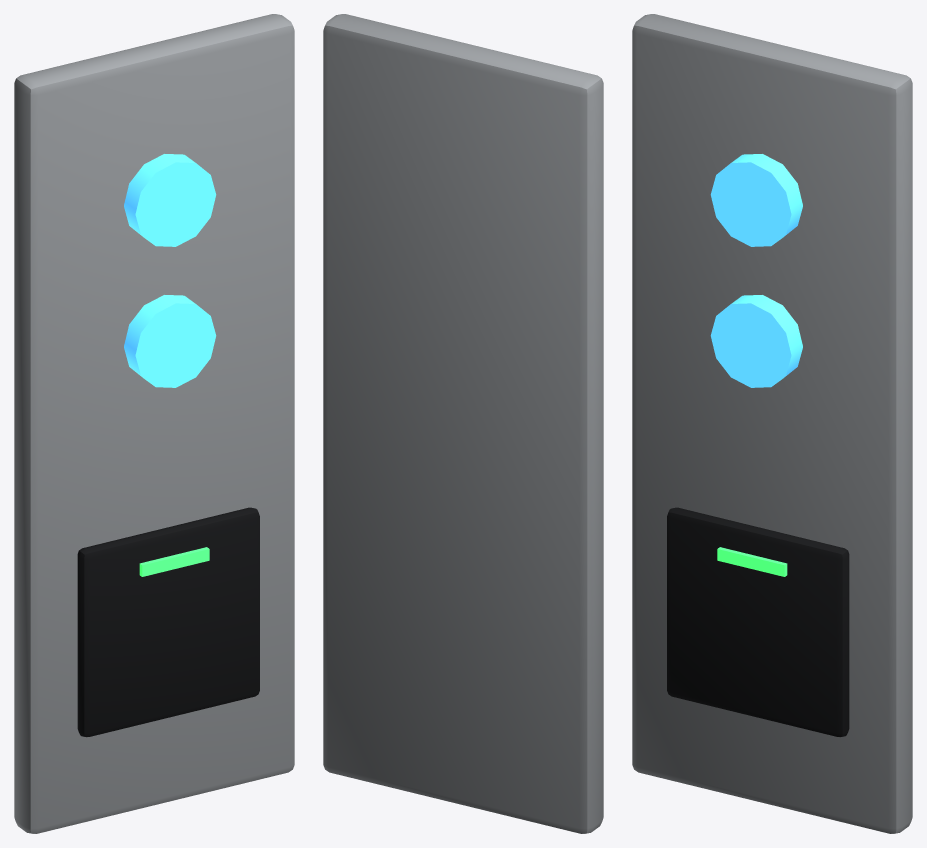
File: vantage_call_panel.glb
3 renders of one model, left to right at view 1: azimuth 30°, elevation 25°; view 2: azimuth 150°, elevation 25°; view 3: azimuth 330°, elevation 25°, orthographic.
Parts seen in each view (by area): view 1: vantage_call_panel; view 2: vantage_call_panel; view 3: vantage_call_panel.
Part boxes in pixels (bbox=[...]): vantage_call_panel: bbox=[14, 14, 294, 833]; vantage_call_panel: bbox=[323, 14, 603, 833]; vantage_call_panel: bbox=[632, 14, 912, 833].
Size of the model in its own units: 0.12 by 0.32 by 0.024.
